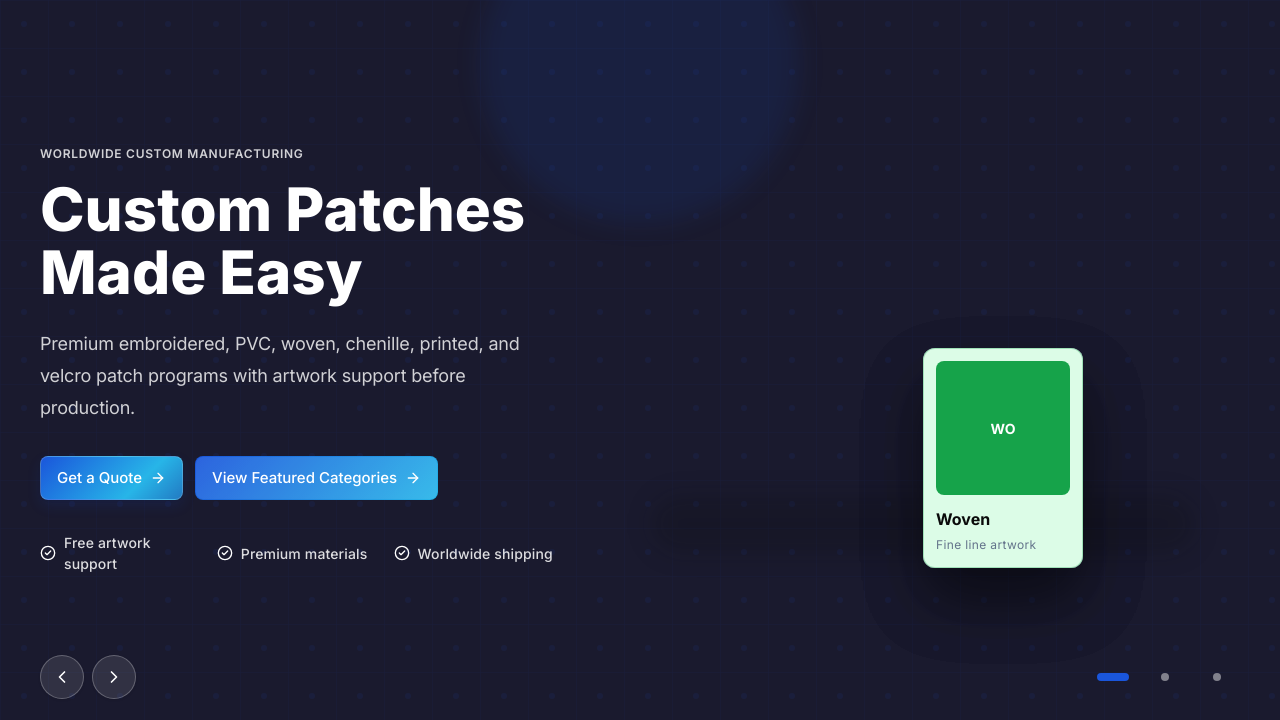
it: hero slider › allows dot navigation to select another slide
The width and height of the screenshot is (1280, 720).
Click the button named "Show Apparel Built For Your Brand slide" at {"x": 1165, "y": 677}, box x1=1143 y1=655 x2=1187 y2=699
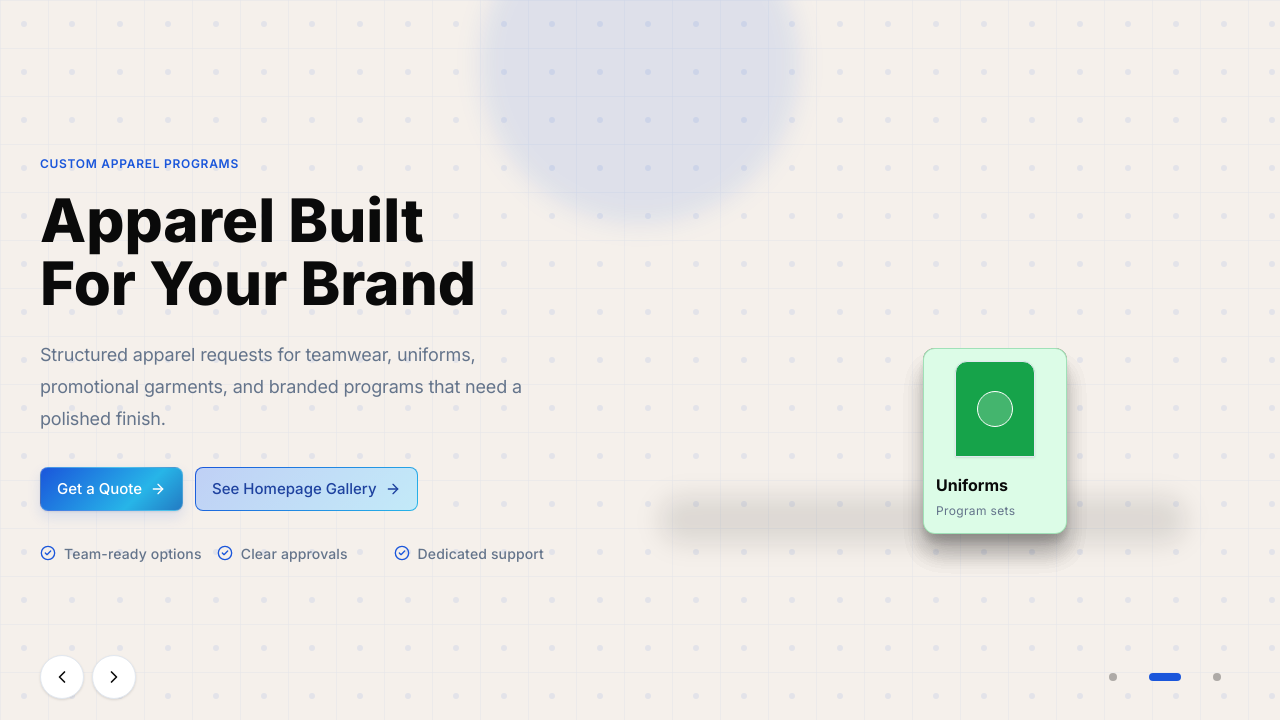
Check: the heading "Apparel Built For Your Brand" is shown, box x1=40 y1=189 x2=558 y2=315
